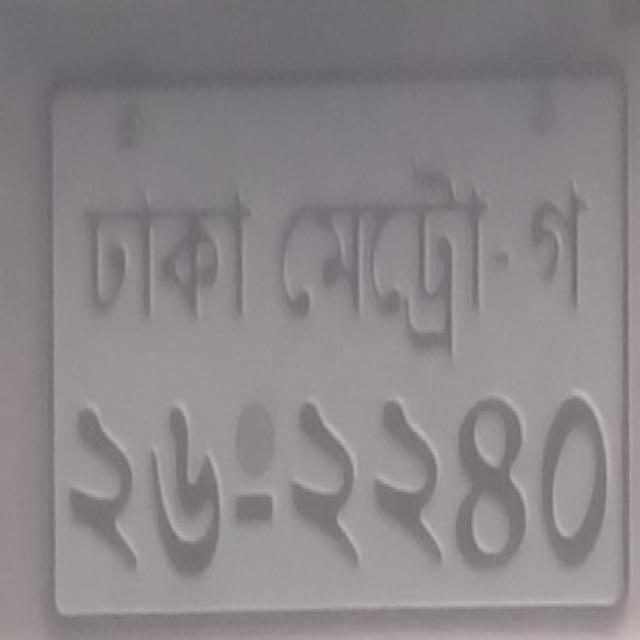cng: (66, 388, 611, 578)
numberplate: (46, 63, 629, 616)
